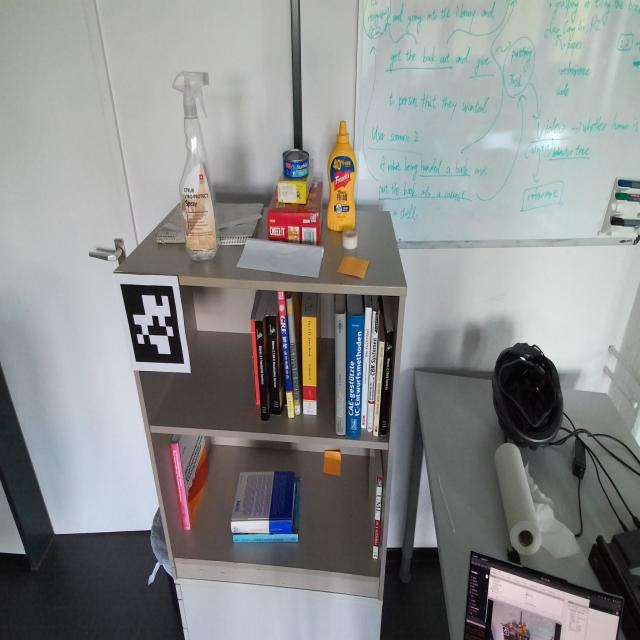Book Spine: (278, 290, 294, 418), (348, 315, 364, 438), (171, 443, 191, 532), (265, 315, 281, 415), (302, 317, 318, 415), (287, 297, 300, 415), (380, 332, 394, 436), (367, 311, 379, 432), (255, 319, 269, 420), (335, 312, 346, 436), (361, 307, 372, 428), (373, 340, 385, 437), (251, 320, 261, 403), (231, 521, 292, 534), (373, 476, 382, 559), (233, 534, 299, 545)
